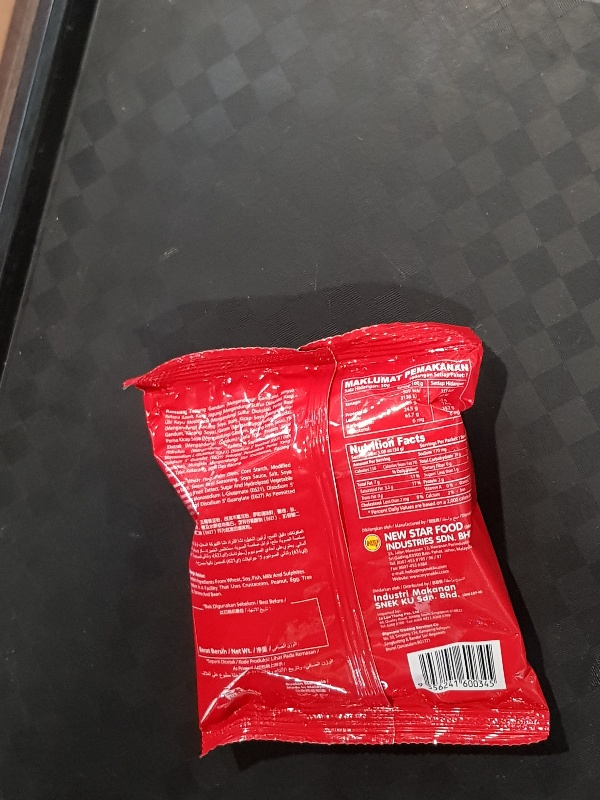ShoyueMi Spicy Flavoured Snacks: (119, 317, 550, 758)
